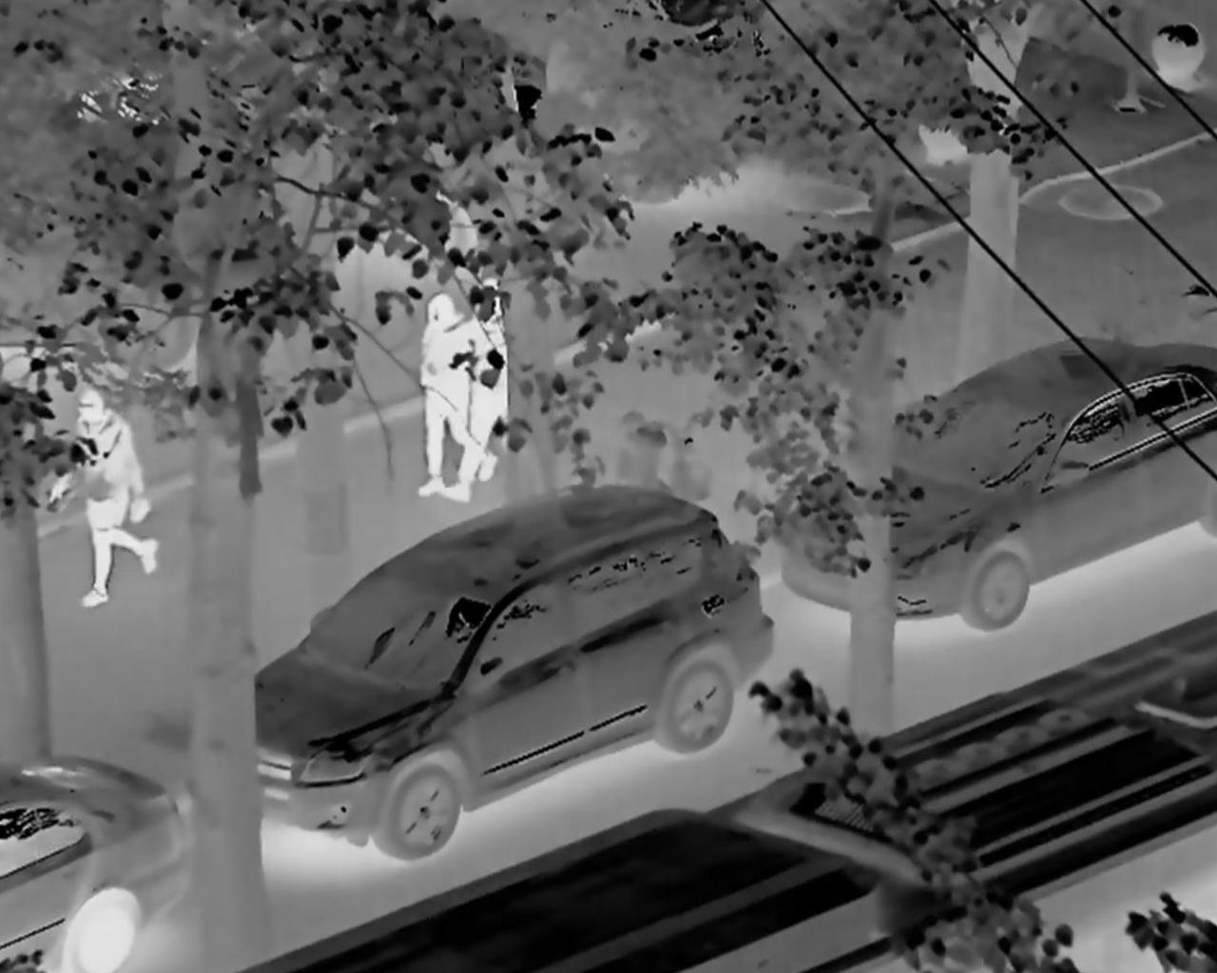person: (36, 373, 172, 614), (444, 271, 534, 476), (418, 290, 472, 504)
